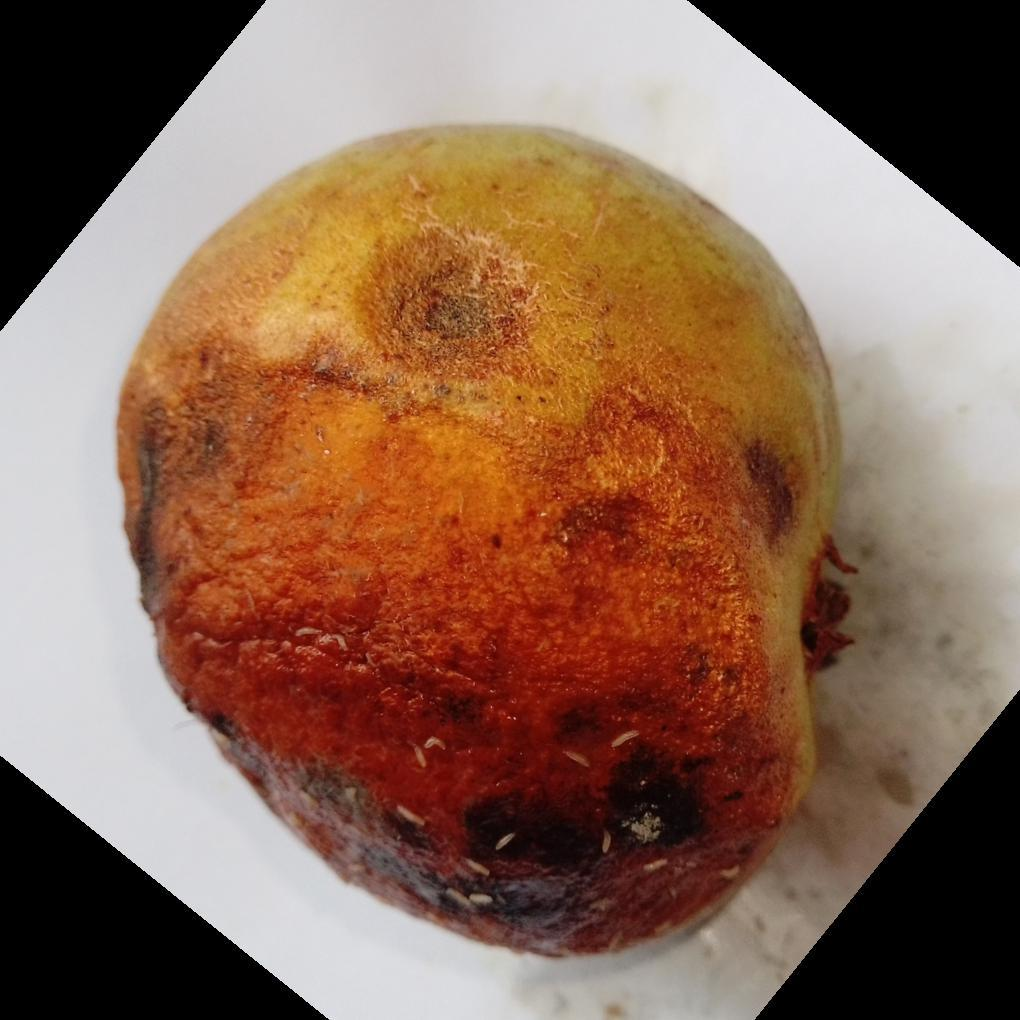FreshOrange: (111, 124, 843, 964)
